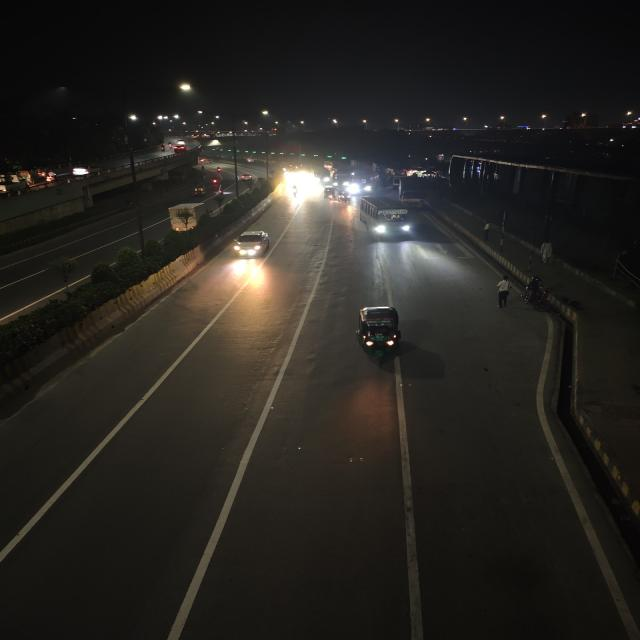bus: (356, 195, 416, 242), (337, 169, 361, 195), (348, 172, 374, 194)
car: (229, 228, 274, 262), (42, 171, 73, 185), (72, 165, 91, 177), (238, 172, 254, 182), (173, 143, 187, 150)
cng: (350, 303, 408, 366), (322, 186, 337, 202), (193, 184, 206, 197)
motorcycle: (520, 275, 552, 313), (211, 176, 222, 187), (213, 165, 224, 175)
pedestrian: (489, 276, 515, 310)
truck: (396, 177, 432, 209)
